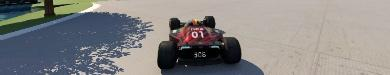Car: (156, 15, 241, 68)
